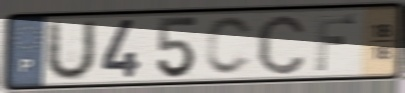4: (99, 16, 146, 81)
5: (154, 14, 200, 81)
C: (255, 12, 308, 78), (203, 14, 255, 78)
F: (313, 14, 357, 73)
U: (43, 17, 98, 84)
